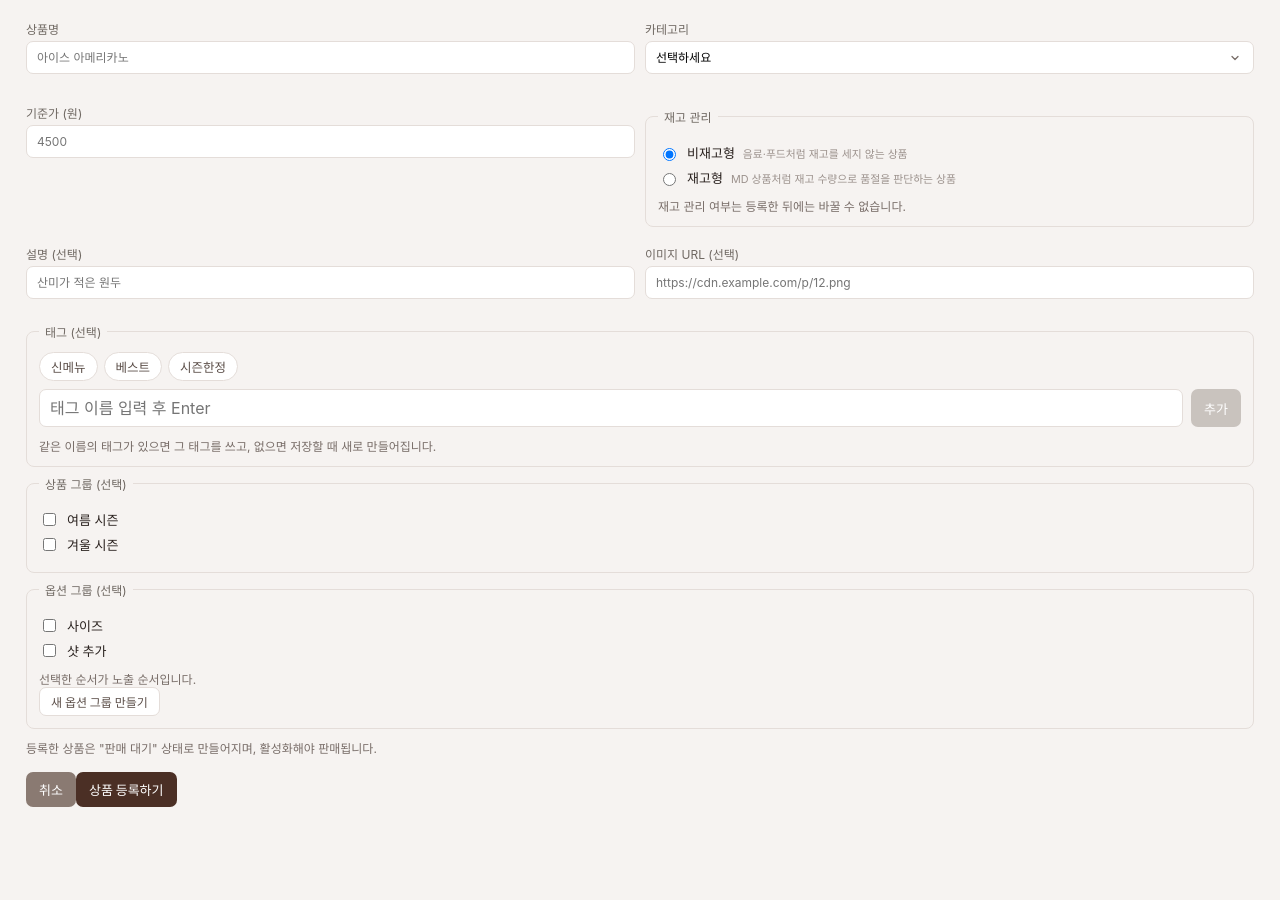
Test: ProductForm 등록 › 필수 입력이 비면 요청하지 않고 필드 아래에 안내하며 첫 오류 필드로 포커스를 옮긴다
The width and height of the screenshot is (1280, 900).
Click the button "상품 등록하기". click: (126, 790)
box: [76,772,176,807]
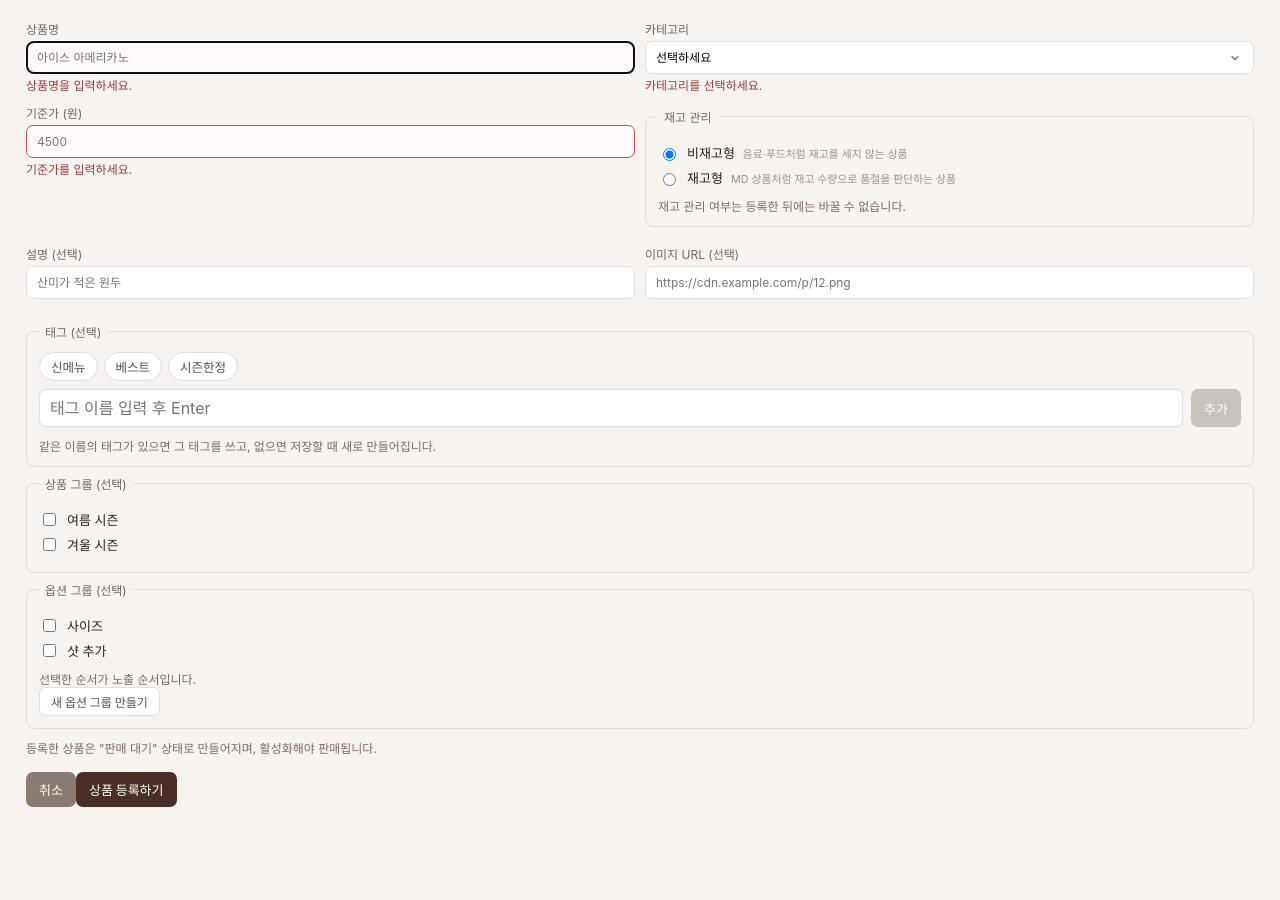
Check: the text "상품명을 입력하세요." is shown, box [26,78,132,93]
Check: the text "카테고리를 선택하세요." is shown, box [645,78,762,93]
Check: the text "기준가를 입력하세요." is shown, box [26,162,132,177]
